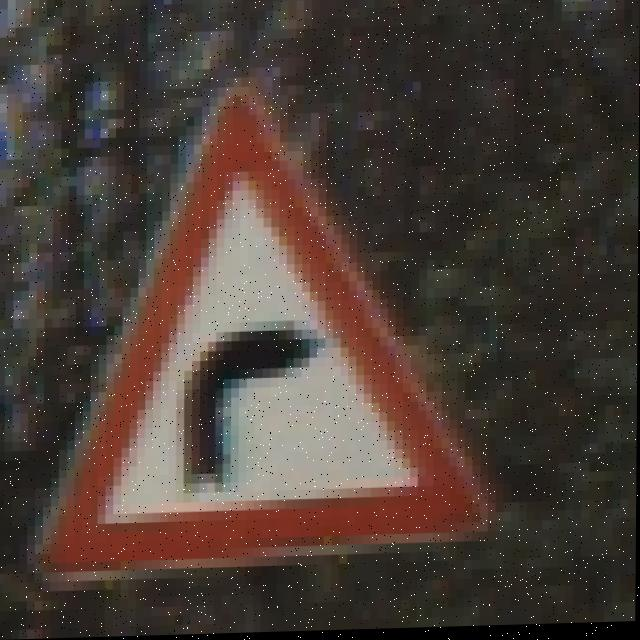right_turn: (36, 102, 491, 572)
